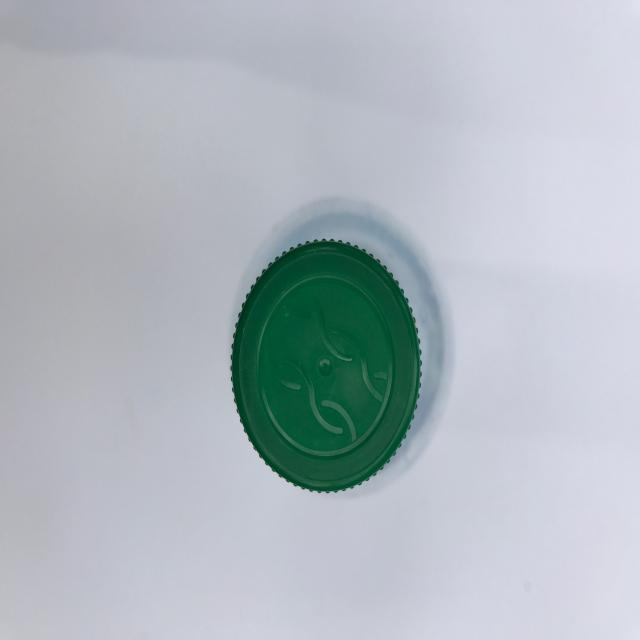plastic: (222, 201, 444, 502)
